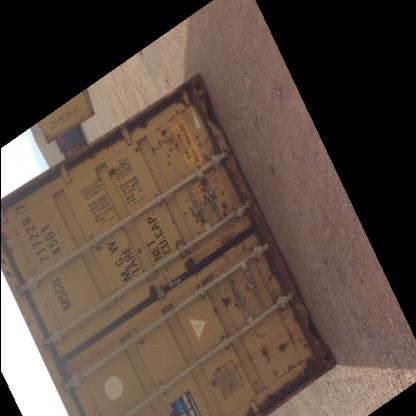Damage: (181, 181, 231, 235), (146, 126, 178, 170), (256, 257, 284, 301), (186, 126, 214, 166), (141, 280, 174, 304), (176, 254, 200, 281), (204, 294, 232, 316), (200, 363, 222, 390), (274, 332, 297, 352), (255, 341, 270, 365), (168, 237, 188, 254), (120, 142, 142, 156), (284, 359, 302, 375), (102, 165, 118, 182), (144, 190, 160, 206), (262, 368, 276, 378), (130, 244, 142, 254)
